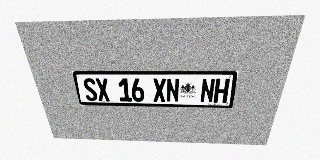1: (117, 78, 132, 102)
6: (130, 78, 145, 102)
H: (213, 79, 230, 103)
N: (200, 79, 216, 103), (166, 78, 179, 102)
S: (82, 78, 98, 101)
X: (95, 78, 111, 101), (153, 78, 166, 102)
